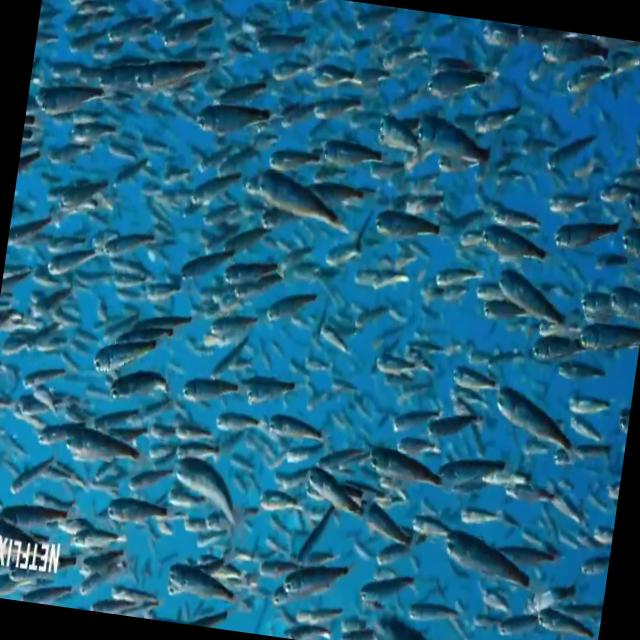fish: (480, 374, 596, 472), (242, 166, 358, 253), (428, 526, 543, 606), (406, 107, 507, 188), (479, 268, 576, 350), (167, 458, 250, 542), (534, 29, 618, 105), (64, 420, 155, 487), (129, 39, 221, 104), (466, 211, 556, 277), (164, 550, 244, 622), (436, 441, 518, 510), (299, 459, 372, 534), (561, 43, 640, 112), (364, 438, 449, 502), (546, 209, 630, 268), (349, 555, 426, 618), (276, 552, 356, 612), (96, 364, 180, 421), (260, 280, 328, 348), (196, 94, 276, 150), (32, 70, 110, 126), (421, 58, 503, 111), (174, 241, 246, 299), (375, 399, 447, 456), (96, 214, 164, 274), (323, 128, 391, 188), (237, 361, 317, 411), (188, 164, 251, 227), (0, 501, 55, 572), (372, 213, 452, 260), (79, 333, 154, 382), (571, 318, 640, 371), (308, 56, 378, 108), (358, 498, 418, 556), (269, 410, 338, 460), (176, 372, 243, 423), (318, 436, 376, 494), (362, 118, 428, 168), (264, 139, 327, 190), (420, 413, 482, 460), (540, 185, 602, 232), (7, 212, 62, 260), (525, 332, 586, 372), (205, 404, 262, 446), (453, 361, 507, 405), (44, 243, 100, 281), (374, 342, 421, 387), (403, 599, 459, 635), (601, 278, 640, 324), (610, 221, 640, 272), (380, 45, 424, 79), (623, 184, 640, 230)
